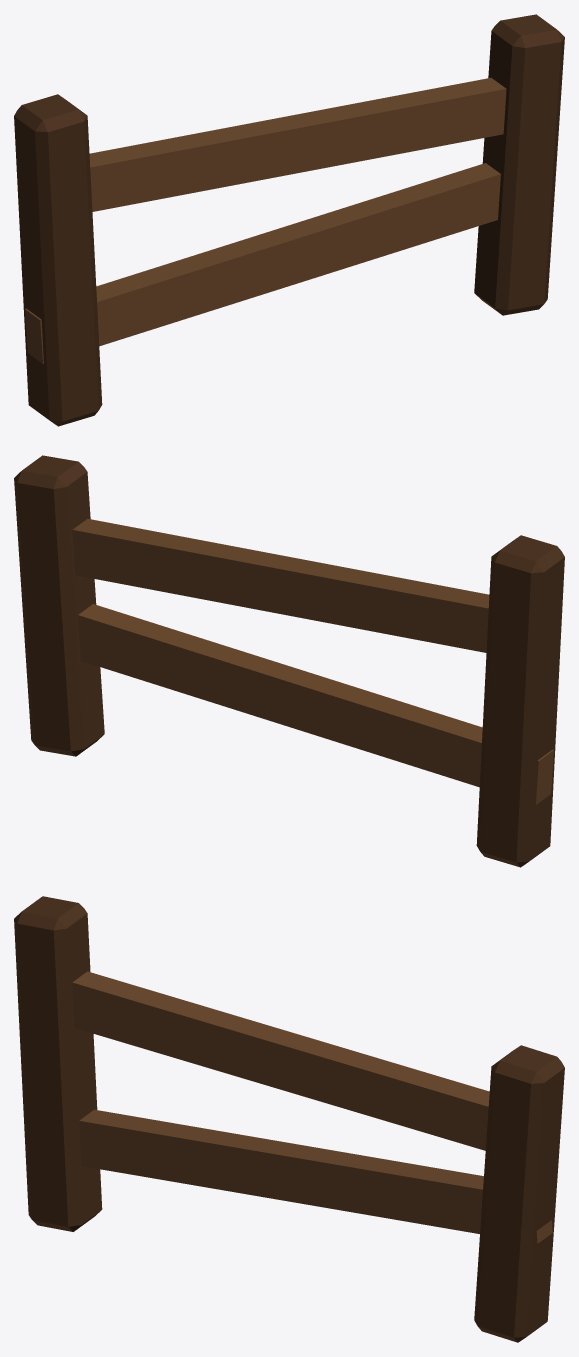
The model's file is fence.glb.
3 views of the same model, one above another, from view 1: azimuth 30°, elevation 25°; view 2: azimuth 150°, elevation 25°; view 3: azimuth 330°, elevation 25° (orthographic).
Visible parts, largest first — view 1: fence; view 2: fence; view 3: fence.
Part boxes in pixels (x1,y1,x2,y2): fence: (14, 14, 564, 426); fence: (14, 455, 564, 867); fence: (14, 896, 564, 1342).
Size of the model in its own units: 1.61 by 0.9051 by 0.16.
